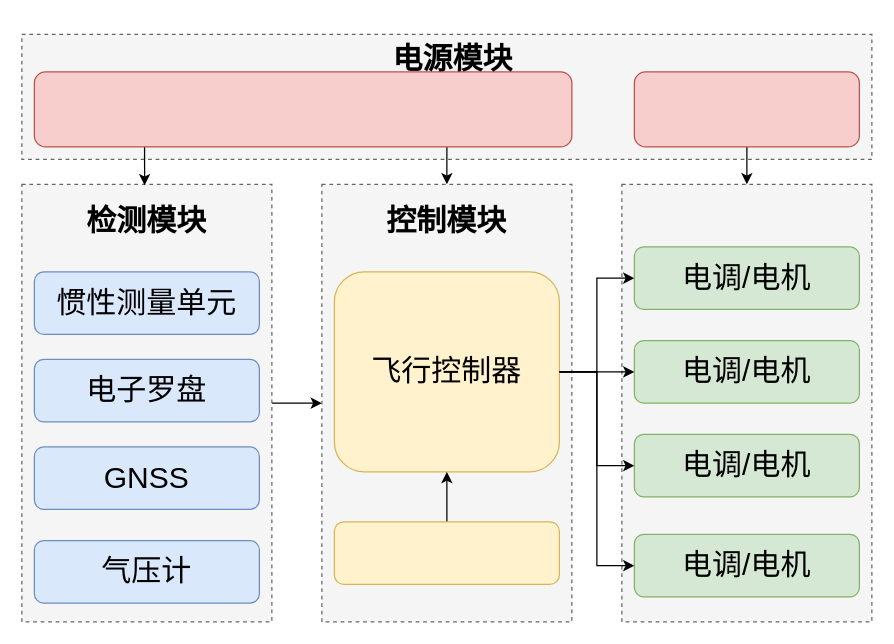
Some shapes in this 894 by 644 pixel diagram are drawn without their labels. The centre of each missing label's shape, as x and y in pixels:
动力供电: (746,109)
控制供电: (302,109)
通信单元: (446,552)
